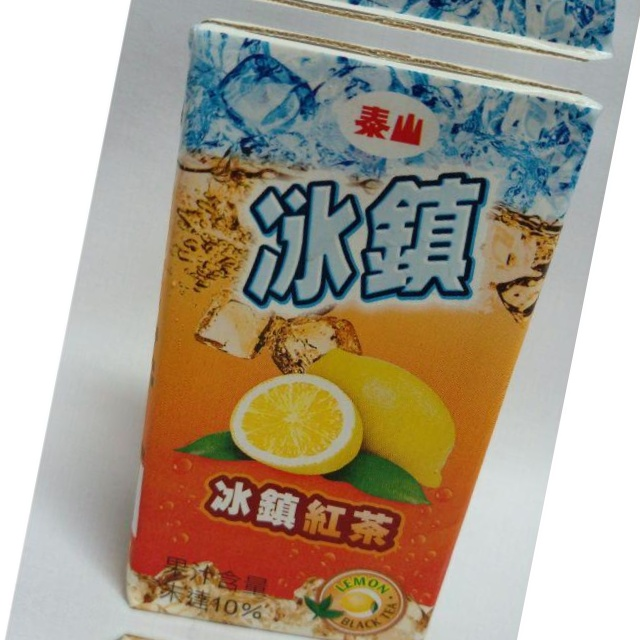鋁箔包: (66, 0, 612, 640), (185, 0, 640, 80), (0, 617, 490, 640)
